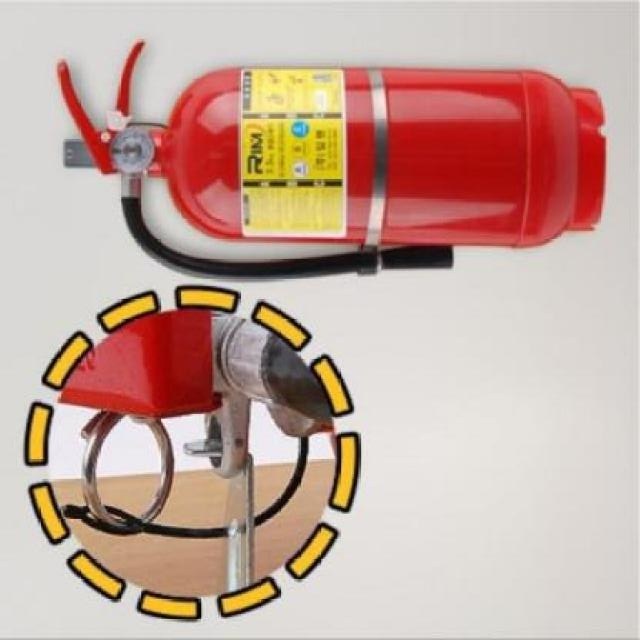fire extinguisher: (54, 40, 608, 285)
